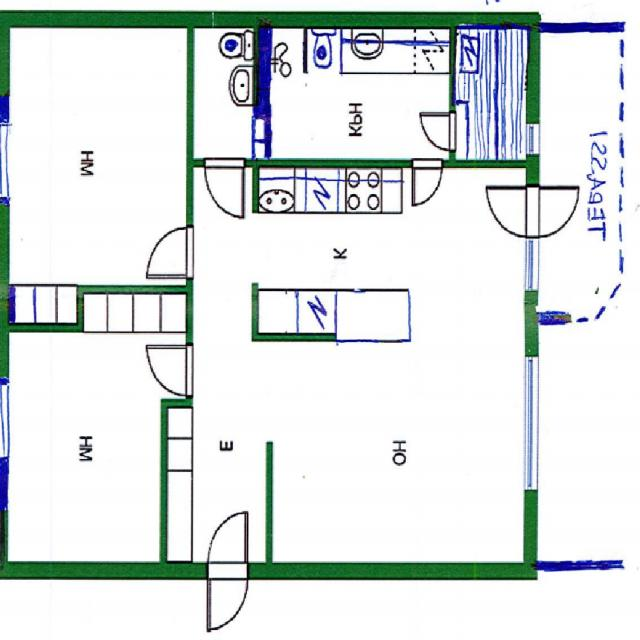door: (527, 184, 582, 237), (486, 184, 540, 237), (208, 509, 250, 576), (208, 562, 250, 628), (145, 344, 193, 396), (148, 228, 194, 277), (205, 160, 244, 216), (412, 160, 442, 206), (420, 111, 456, 148)
